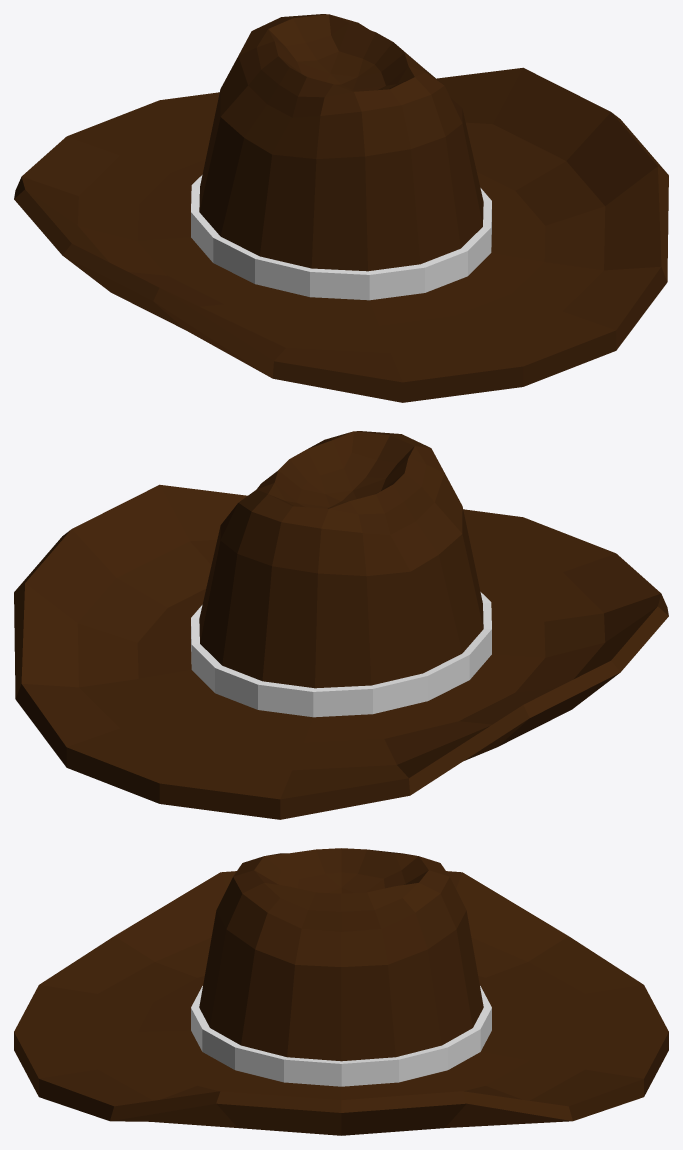
File: coybowHat.fbx
3 views of the same model, one above another, from view 1: azimuth 30°, elevation 25°; view 2: azimuth 150°, elevation 25°; view 3: azimuth 270°, elevation 25° (orthographic). The views are drawn at different scales.
Visible parts, largest first — view 1: Hat; view 2: Hat; view 3: Hat.
Boxes of the visible parts, left/top/right/bottom form: Hat: left=14, top=14, right=668, bottom=402; Hat: left=14, top=431, right=668, bottom=819; Hat: left=14, top=848, right=668, bottom=1135.
Size of the model in its own units: 426 by 146 by 481.
